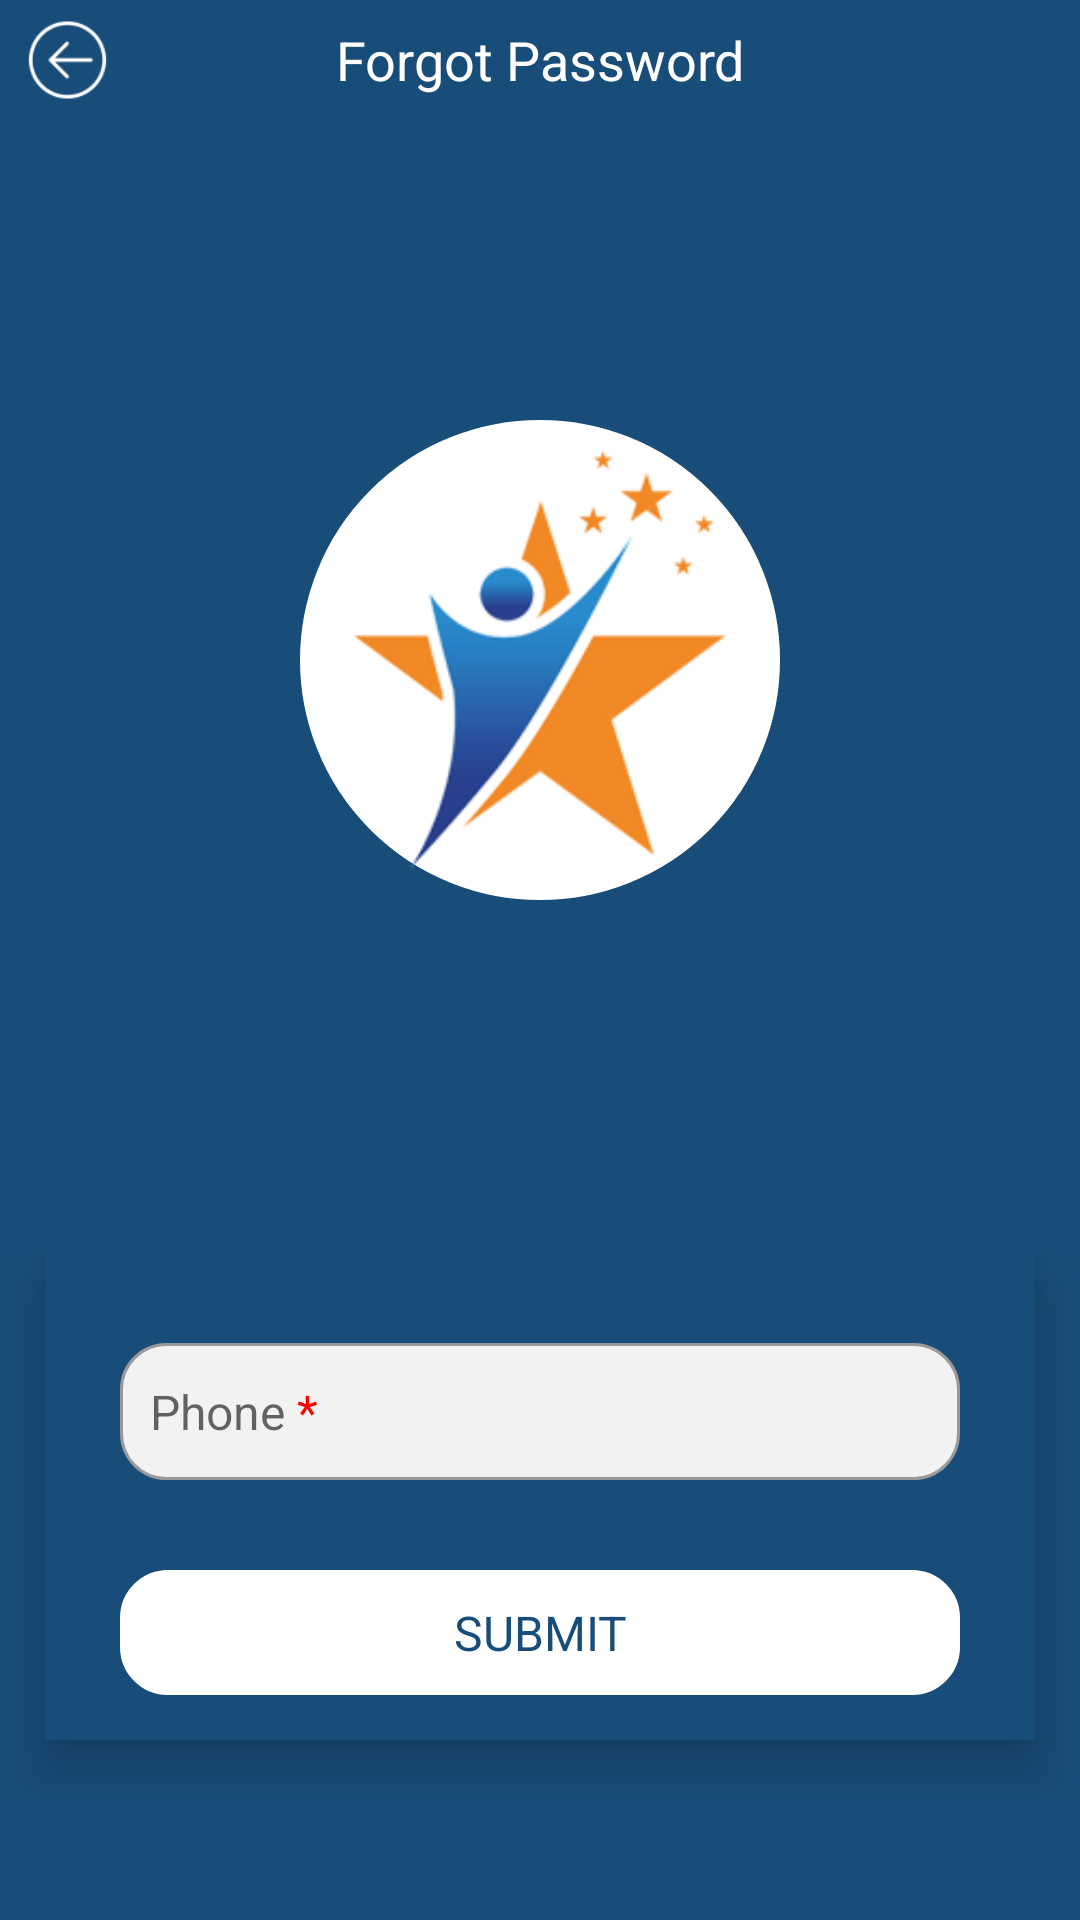

Named icons in this screenshot (1080px×1920px) and their centers, point (x, y):
leftarrow: point (67, 60)
